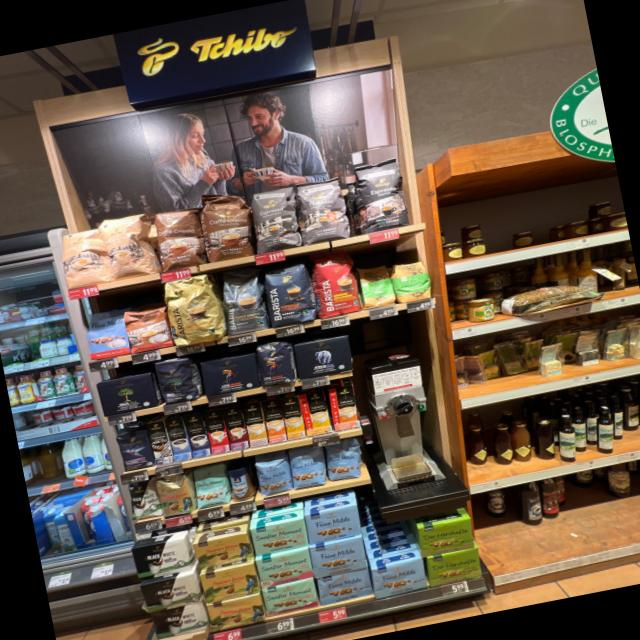AB Bohne: (293, 334, 354, 382)
Athiopien Bohne: (392, 258, 436, 304)
Athiopien Gemahlen: (357, 262, 398, 310)
BM Bohne: (153, 355, 200, 406)
BM Gemahlen: (96, 371, 160, 417)
BW Bohne: (126, 481, 162, 522)
BW Gemahlen: (130, 537, 192, 581), (140, 573, 201, 613), (149, 602, 209, 640)
Barista CB: (162, 272, 228, 348)
Barista Espresso: (261, 262, 318, 330)
Barista Kolumbien: (310, 247, 364, 319)
C Fino Bohne: (115, 424, 155, 472)
CC Mild: (98, 209, 160, 284), (57, 224, 110, 290)
CC Vollmundig: (122, 302, 173, 355)
CC Vollmundig 36 Pads: (196, 186, 258, 264), (150, 204, 208, 272), (217, 273, 270, 337)
Colombia BB Bohne: (200, 562, 260, 604), (192, 532, 255, 572), (206, 594, 266, 632), (155, 472, 197, 519)
Espresso Aromatisch: (248, 183, 305, 254)
Espresso Kraftig: (351, 156, 414, 234)
Espresso M Art: (294, 174, 354, 246)
FM 36 Pads: (84, 307, 132, 361)
FM Bohne: (308, 537, 368, 579), (372, 558, 431, 600), (303, 504, 363, 544), (316, 568, 374, 606), (324, 438, 368, 484), (288, 444, 329, 490), (253, 454, 295, 498)
FM Instant: (227, 464, 258, 504)
Herzhatfe Mundig: (416, 516, 476, 558), (426, 546, 484, 588)
LG Bohne: (254, 336, 299, 389)
LG Gemahlen: (197, 351, 261, 398)
SM Bohne: (191, 462, 233, 509)
SM Gemahlen: (249, 517, 310, 557), (254, 548, 313, 589), (261, 578, 320, 618), (314, 578, 314, 579)
Simo CCMild: (298, 389, 332, 436)
Simo CCMild bigpack: (280, 395, 306, 440)
Simo CCVollmundig: (326, 384, 361, 432)
Simo CCVollmundig bigpack: (262, 398, 288, 443)
Simo Decaff: (242, 402, 268, 448)
Simo Es Brazil: (203, 407, 230, 455)
Simo Es Caramel: (222, 404, 250, 452)
Simo Es Elegant: (147, 420, 175, 466)
Simo Es Kraft: (183, 412, 212, 458)
Simo Es Vanilla: (164, 416, 193, 462)
